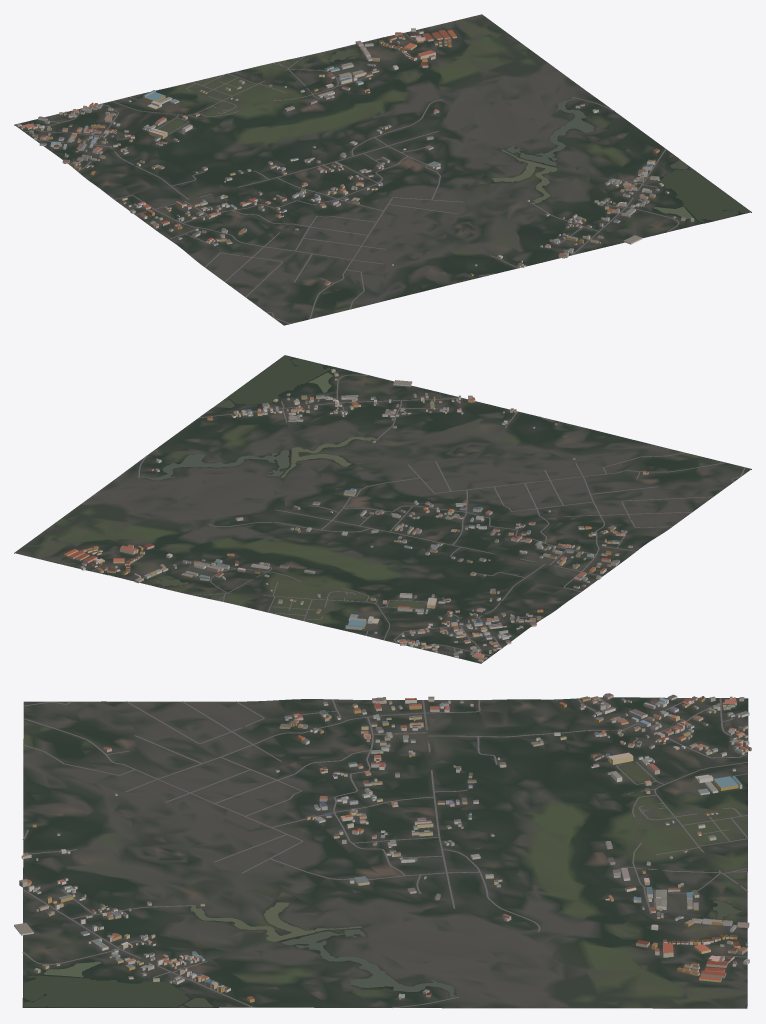
The picture shows the model from 3 angles, top to bottom: view 1: azimuth 30°, elevation 25°; view 2: azimuth 150°, elevation 25°; view 3: azimuth 270°, elevation 25°; orthographic projection. The views are drawn at different scales.
Parts seen in each view (by area): view 1: ground, buildings, roads, water; view 2: ground, buildings, roads, water; view 3: ground, buildings, water, roads.
Part boxes in pixels (<box>): ground: <box>14,14,751,325</box>; buildings: <box>16,28,694,285</box>; roads: <box>24,32,679,323</box>; water: <box>326,50,750,222</box>; ground: <box>14,355,751,663</box>; buildings: <box>64,369,648,662</box>; roads: <box>91,374,745,656</box>; water: <box>140,355,378,587</box>; ground: <box>22,697,748,1008</box>; buildings: <box>14,693,751,1002</box>; water: <box>23,901,741,1007</box>; roads: <box>22,697,747,1007</box>.
Size of the model in its own units: 1411 by 24.72 by 1428.
